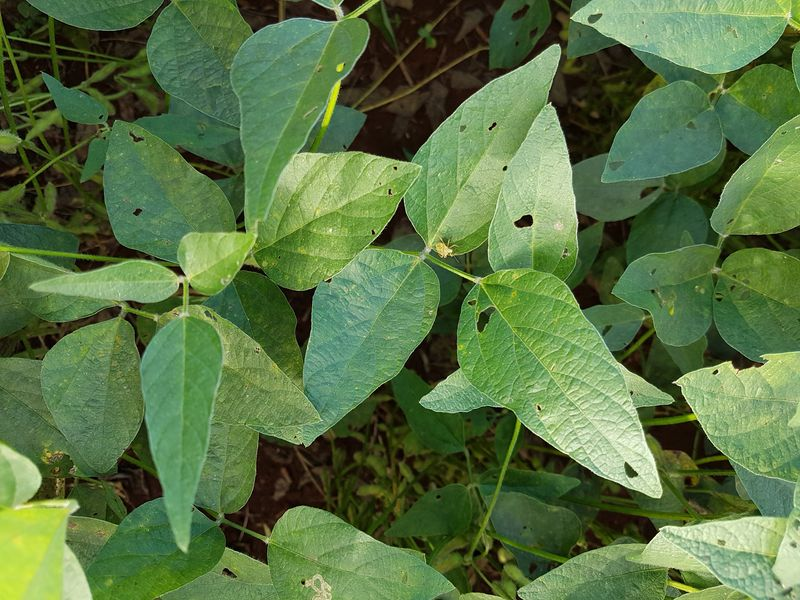Euschistus_heros_ninfa: (427, 232, 464, 266)
